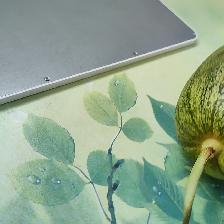gua: (189, 60, 220, 175)
